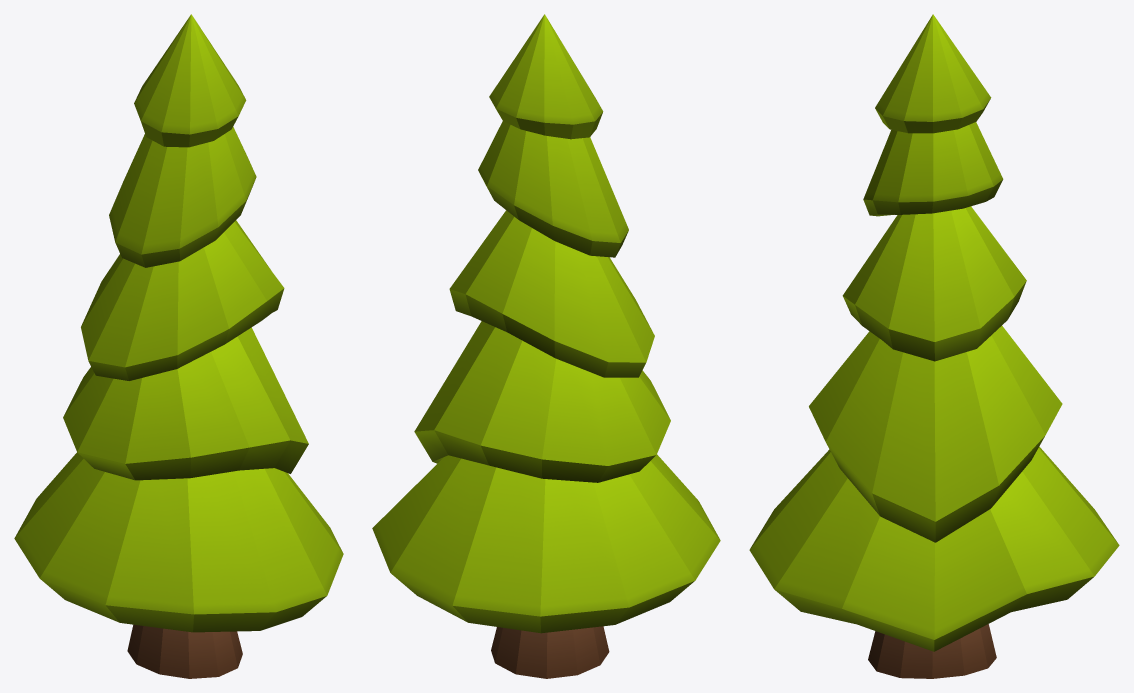
File: Tree5.fbx
3 views of the same model, side by side, from view 1: azimuth 30°, elevation 25°; view 2: azimuth 150°, elevation 25°; view 3: azimuth 270°, elevation 25° (orthographic).
Parts seen in each view (by area): view 1: Cube.045; view 2: Cube.045; view 3: Cube.045.
Boxes of the visible parts, x1,y1,x2,y2 form: Cube.045: (14,14,343,678); Cube.045: (372,14,720,678); Cube.045: (749,14,1119,678).
Size of the model in its own units: 1038 by 2178 by 1127.
Materials: 1 (1 with a texture image).
